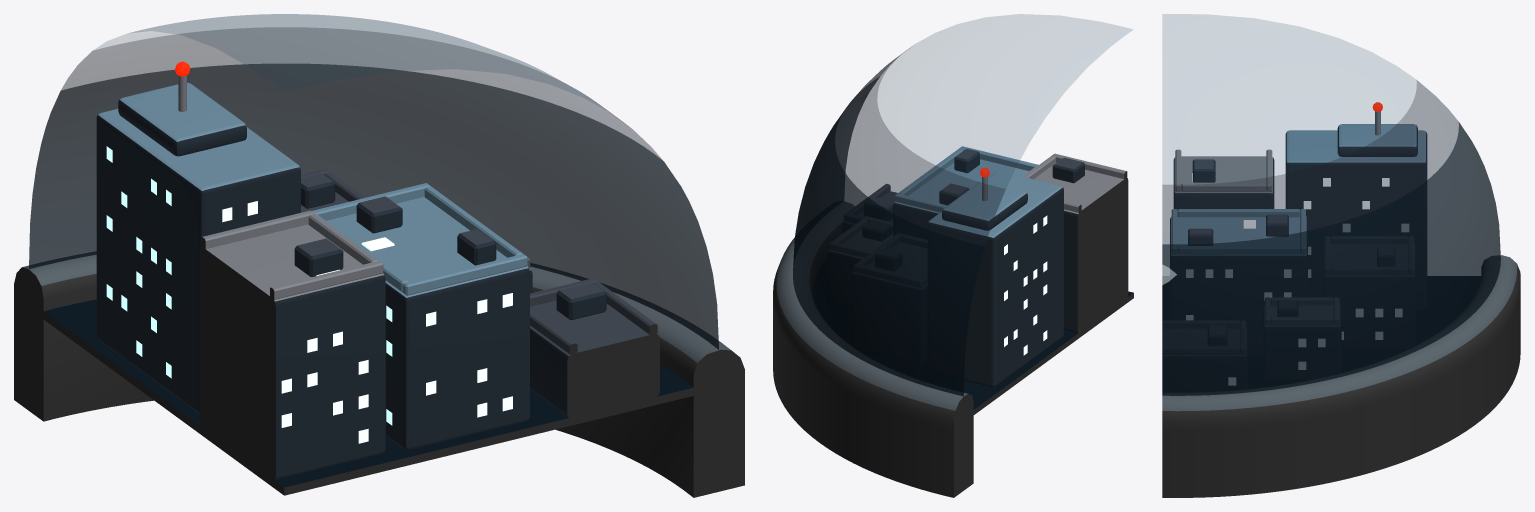
The model's file is glass_city_tr.glb.
The picture shows the model from 3 angles, left to right: view 1: azimuth 30°, elevation 25°; view 2: azimuth 150°, elevation 25°; view 3: azimuth 270°, elevation 25°; orthographic projection. The views are drawn at different scales.
Visible parts, largest first — view 1: glassshell.001, b3.001, b0.001, collar.001, b4.001, floor.001, b10.001, b0_top.001, b4_rim_s.001, b0_windows.001, b3_rim_s.001, b3_rim_n.001 (+11 smaller); view 2: glassshell.001, collar.001, b0.001, b3.001, b5.001, floor.001, b4.001, b0_top.001, b6.001, b3_unit0.001, b0_windows.001, b4_rim_e.001 (+9 smaller); view 3: glassshell.001, collar.001, b0.001, b4.001, b5.001, b6.001, floor.001, b10.001, b3.001, b0_top.001, b4_rim_e.001, b4_rim_w.001 (+13 smaller).
Boxes of the visible parts, left/top/right/bottom form: glassshell.001: left=29, top=14, right=718, bottom=349; b3.001: left=199, top=224, right=385, bottom=480; b0.001: left=96, top=108, right=300, bottom=413; collar.001: left=14, top=252, right=744, bottom=497; b4.001: left=326, top=196, right=529, bottom=450; floor.001: left=42, top=299, right=695, bottom=495; b10.001: left=530, top=300, right=659, bottom=418; b0_top.001: left=118, top=82, right=246, bottom=156; b4_rim_s.001: left=403, top=254, right=527, bottom=295; b0_windows.001: left=106, top=146, right=257, bottom=378; b3_rim_s.001: left=270, top=261, right=383, bottom=299; b3_rim_n.001: left=201, top=210, right=314, bottom=248; glassshell.001: left=793, top=14, right=1132, bottom=396; collar.001: left=773, top=201, right=973, bottom=497; b0.001: left=927, top=171, right=1063, bottom=386; b3.001: left=1034, top=162, right=1128, bottom=333; b5.001: left=852, top=242, right=927, bottom=363; floor.001: left=813, top=257, right=1133, bottom=414; b4.001: left=893, top=159, right=1028, bottom=239; b0_top.001: left=942, top=181, right=1027, bottom=230; b6.001: left=828, top=230, right=892, bottom=310; b3_unit0.001: left=1052, top=157, right=1084, bottom=183; b0_windows.001: left=1004, top=215, right=1047, bottom=355; b4_rim_e.001: left=898, top=148, right=963, bottom=195; glassshell.001: left=1162, top=14, right=1500, bottom=395; collar.001: left=1162, top=255, right=1520, bottom=497; b0.001: left=1285, top=130, right=1427, bottom=310; b4.001: left=1170, top=216, right=1307, bottom=356; b5.001: left=1323, top=244, right=1415, bottom=350; b6.001: left=1263, top=305, right=1341, bottom=380; floor.001: left=1162, top=276, right=1480, bottom=388; b10.001: left=1162, top=328, right=1247, bottom=392; b3.001: left=1173, top=156, right=1274, bottom=209; b0_top.001: left=1337, top=124, right=1417, bottom=156; b4_rim_e.001: left=1178, top=246, right=1299, bottom=254; b4_rim_w.001: left=1177, top=209, right=1299, bottom=217.
Bounding box in the file's own units: 18.9 × 19.82 × 19.2.
